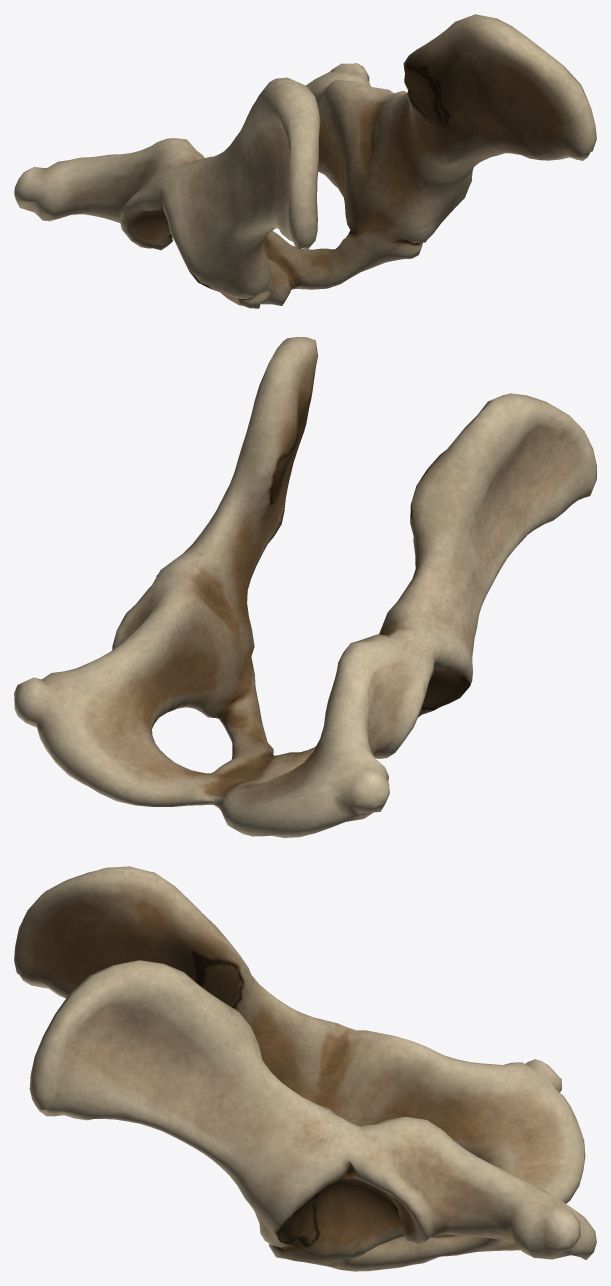
Rendered from Os_Coxae.glb.
3 renders of one model, top to bottom at view 1: azimuth 30°, elevation 25°; view 2: azimuth 150°, elevation 25°; view 3: azimuth 270°, elevation 25°, orthographic. The views are drawn at different scales.
Parts seen in each view (by area): view 1: Os_Coxae_Left2:Group10503; view 2: Os_Coxae_Left2:Group10503; view 3: Os_Coxae_Left2:Group10503.
Part boxes in pixels (x1,y1,x2,y2): Os_Coxae_Left2:Group10503: (14,14,596,308); Os_Coxae_Left2:Group10503: (14,337,596,837); Os_Coxae_Left2:Group10503: (14,866,596,1271).
Size of the model in its own units: 78.03 by 67.86 by 103.
Materials: 1 (1 with a texture image).
